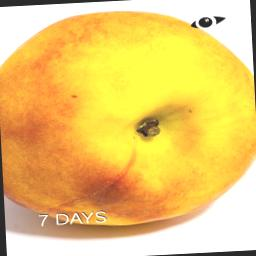Peach Ripe: (0, 1, 256, 231)
